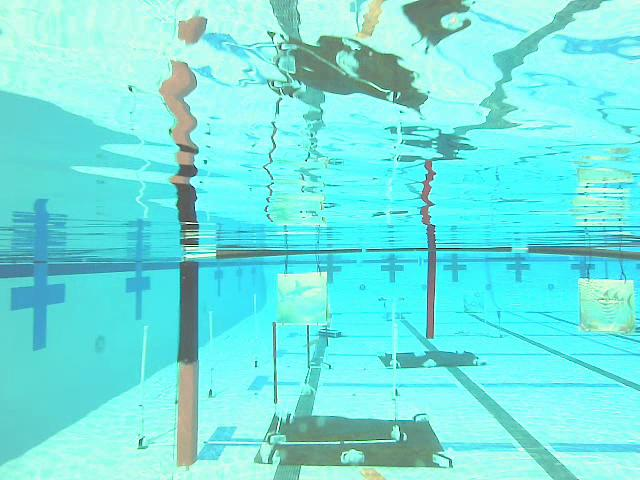black_poster: (272, 324, 278, 405), (305, 313, 311, 369)
divider: (428, 248, 435, 339)
left_gate_poster: (178, 262, 198, 465)
shark: (276, 272, 328, 325)
swordfish: (580, 280, 637, 333)
white_poster: (138, 327, 148, 405), (207, 310, 214, 370)
